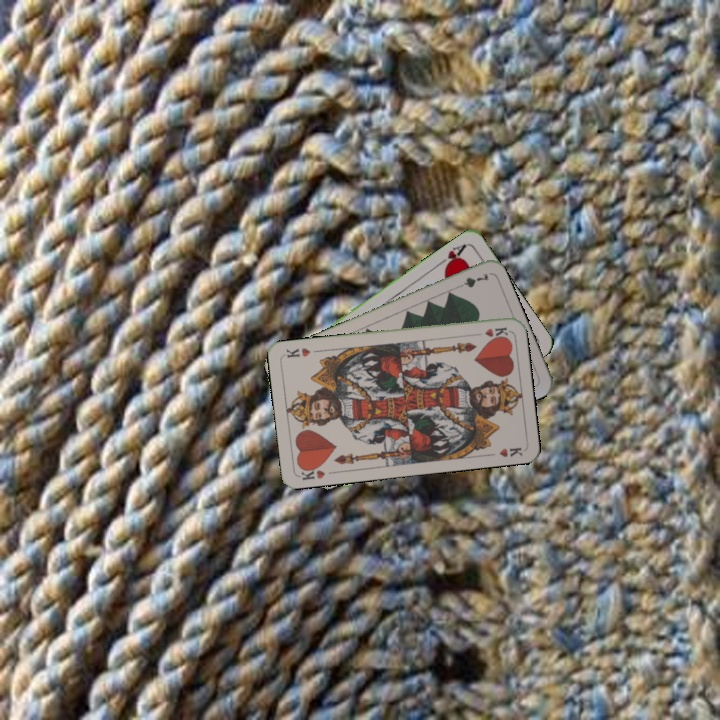G7: (452, 269, 492, 292)
HA: (433, 240, 469, 272)
HK: (296, 461, 327, 483), (470, 323, 510, 340)
